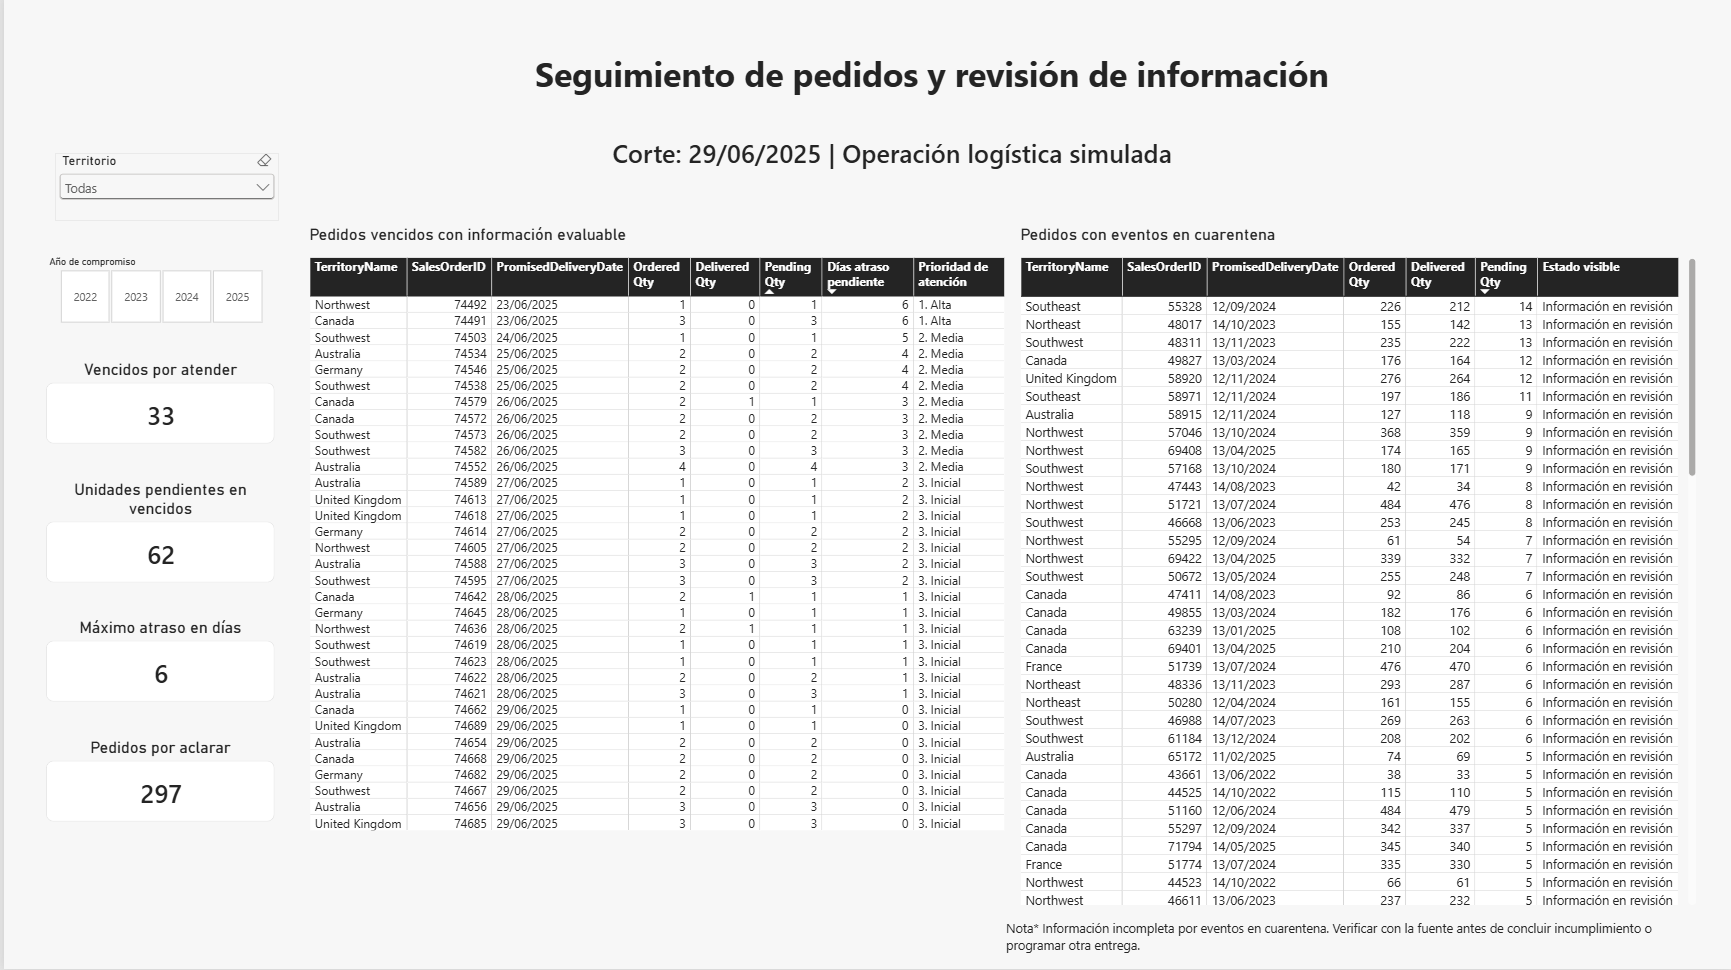

What the dashboard file says about the page in this screenshot:
{"tool":"powerbi","page":{"name":"Seguimiento de pedidos","canvas":[1920,1080],"ordinal":2},"visuals":[{"type":"textbox","box":[552.5,60,957.5,95],"z":0},{"type":"cardVisual","fields":{"Data":["FactPedidos.Texto fecha de corte"]},"box":[659.8,125.3,742.5,95],"z":1000},{"type":"slicer","fields":{"Values":["DimTerritorio.TerritoryName"]},"box":[57.1,173.2,248.9,75.6],"z":2000},{"type":"slicer","fields":{"Values":["DimFechaCompromiso.Anio"]},"box":[42.4,288.2,263.5,75.6],"z":3000},{"type":"cardVisual","title":"Vencidos por atender","fields":{"Data":["FactPedidos.Pedidos vencidos confirmados"]},"box":[47,403.2,254.3,94],"z":4000},{"type":"cardVisual","title":"Máximo atraso en días","fields":{"Data":["FactPedidos.Máximo atraso pendiente"]},"box":[47,690.4,254.3,94],"z":5000},{"type":"cardVisual","title":"Pedidos por aclarar","fields":{"Data":["FactPedidos.Pedidos con revisión"]},"box":[47,823.8,254.3,94],"z":6000},{"type":"cardVisual","title":"Unidades pendientes en vencidos","fields":{"Data":["FactPedidos.Unidades pendientes confirmadas vencidas"]},"box":[47,536.7,254.3,114.3],"z":7000},{"type":"tableEx","title":"Pedidos vencidos con información evaluable","fields":{"Values":["DimTerritorio.TerritoryName","FactPedidos.SalesOrderID","FactPedidos.PromisedDeliveryDate","FactPedidos.OrderedQty","FactPedidos.DeliveredQty","FactPedidos.PendingQty","FactPedidos.Días atraso pendiente","FactPedidos.Prioridad de atención"]},"box":[323.4,238.7,831.2,841.3],"z":8000},{"type":"tableEx","title":"Pedidos con eventos en cuarentena","fields":{"Values":["DimTerritorio.TerritoryName","FactPedidos.SalesOrderID","FactPedidos.PromisedDeliveryDate","FactPedidos.OrderedQty","FactPedidos.DeliveredQty","FactPedidos.PendingQty","FactPedidos.Estado visible"]},"box":[1113.2,238.7,783.3,786],"z":9000},{"type":"textbox","box":[1113.2,1024.7,783.3,46.1],"z":10000}]}

Visuals, with their boxes in screenshot pixels (x1, y1, x2, y2), scaled from the page's 1920x1080 canvas onto the 1731x970 screenshot:
textbox: region(498, 54, 1361, 139)
cardVisual - FactPedidos.Texto fecha de corte: region(595, 113, 1264, 198)
slicer - DimTerritorio.TerritoryName: region(51, 156, 276, 223)
slicer - DimFechaCompromiso.Anio: region(38, 259, 276, 327)
"Vencidos por atender" cardVisual: region(42, 362, 272, 447)
"Máximo atraso en días" cardVisual: region(42, 620, 272, 705)
"Pedidos por aclarar" cardVisual: region(42, 740, 272, 824)
"Unidades pendientes en vencidos" cardVisual: region(42, 482, 272, 585)
"Pedidos vencidos con información evaluable" tableEx: region(292, 214, 1041, 969)
"Pedidos con eventos en cuarentena" tableEx: region(1004, 214, 1710, 920)
textbox: region(1004, 920, 1710, 962)
